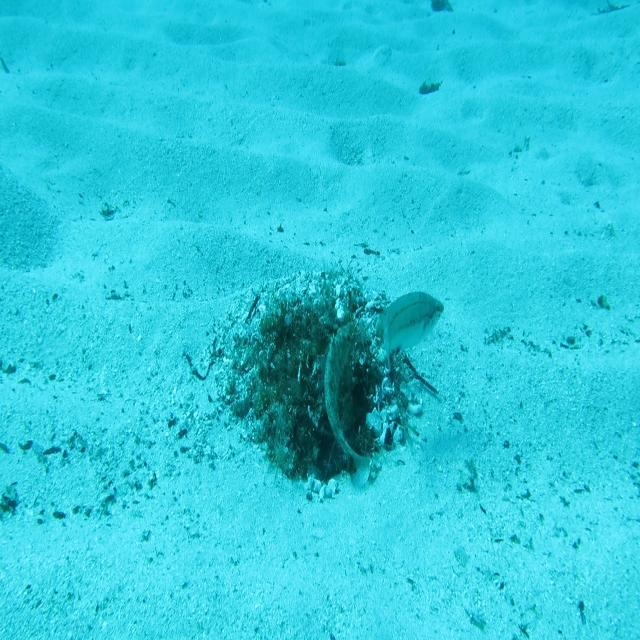LF: (318, 318, 373, 477)
core_nest: (289, 320, 333, 357)
female: (382, 286, 445, 384)
nest: (213, 251, 425, 506)
vegetation: (588, 0, 633, 24), (416, 80, 444, 94), (428, 0, 453, 14)
